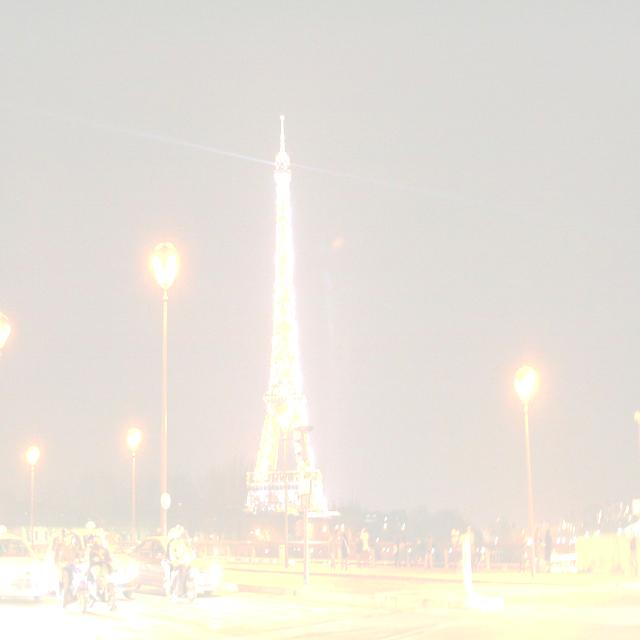Motorbike: (49, 542, 118, 615), (162, 540, 199, 604)
